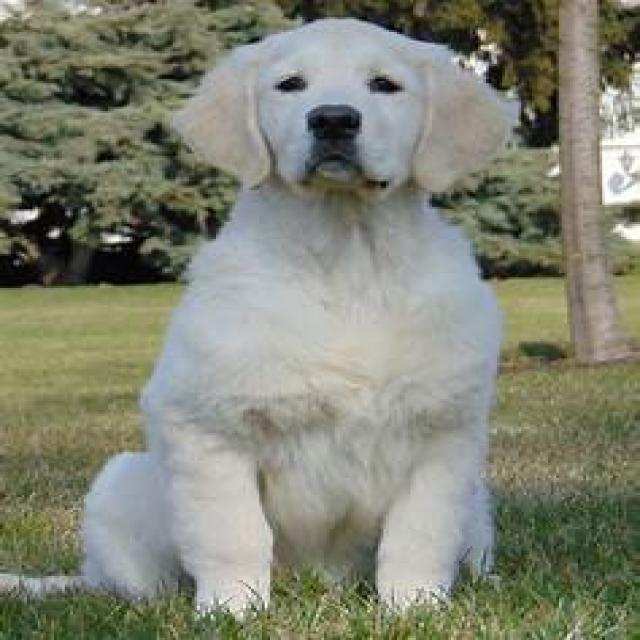KOPEK: (57, 14, 570, 607)
